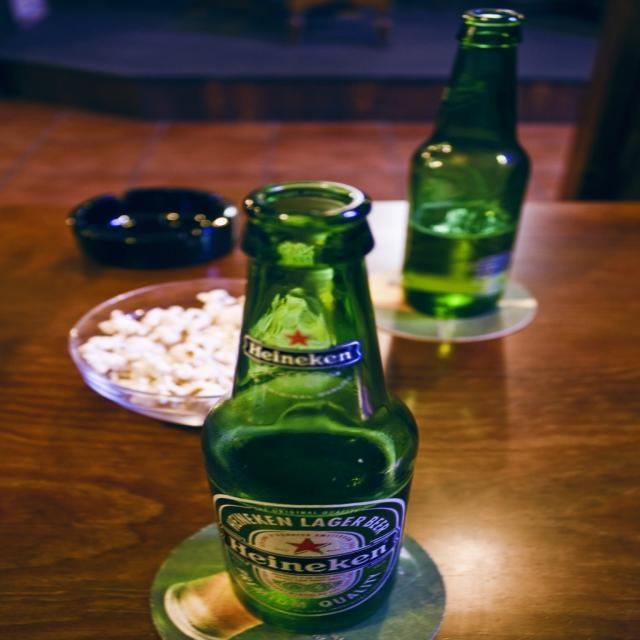heineken: (213, 494, 409, 617)
